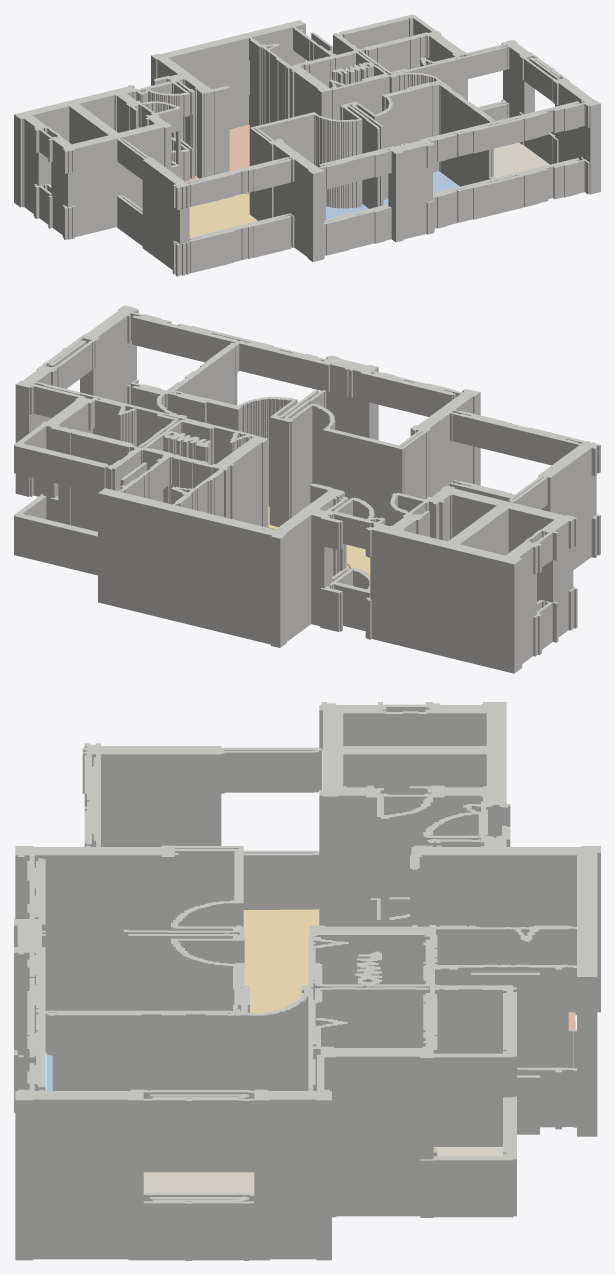
3 views of the same model, one above another, from view 1: azimuth 30°, elevation 25°; view 2: azimuth 150°, elevation 25°; view 3: azimuth 270°, elevation 25° (orthographic). The views are drawn at different scales.
Parts seen in each view (by area): view 1: walls, room:living:3, room:other:11, room:kitchen:0, room:bedroom:5; view 2: walls, room:living:3; view 3: walls, room:living:3, room:other:11.
Part boxes in pixels (x1,y1,x2,y2): walls: (14, 14, 600, 276); room:living:3: (189, 193, 257, 237); room:other:11: (494, 142, 549, 177); room:kitchen:0: (185, 125, 249, 194); room:bedroom:5: (433, 171, 459, 193); walls: (14, 305, 600, 673); room:living:3: (268, 506, 370, 575); walls: (14, 702, 600, 1260); room:living:3: (243, 907, 319, 1013); room:other:11: (143, 1172, 254, 1193).
Bounding box in the file's own units: 15 × 2.8 × 9.32.
